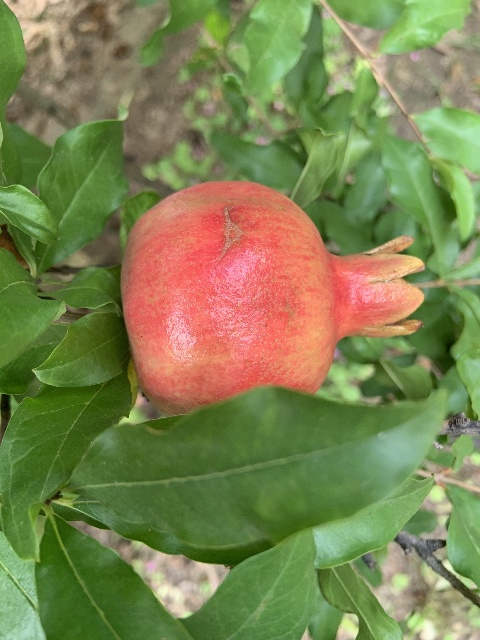ripe: (123, 181, 423, 415)
